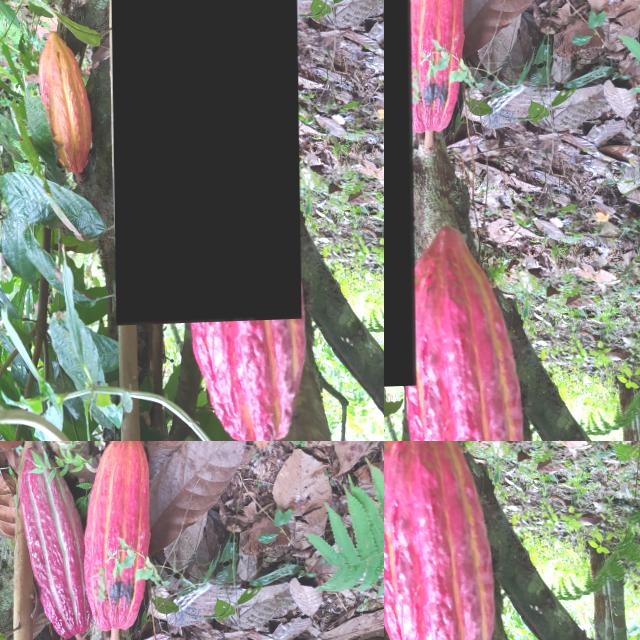Fitoftora: (108, 0, 299, 327)
Sana: (0, 441, 165, 640), (384, 441, 496, 640)
